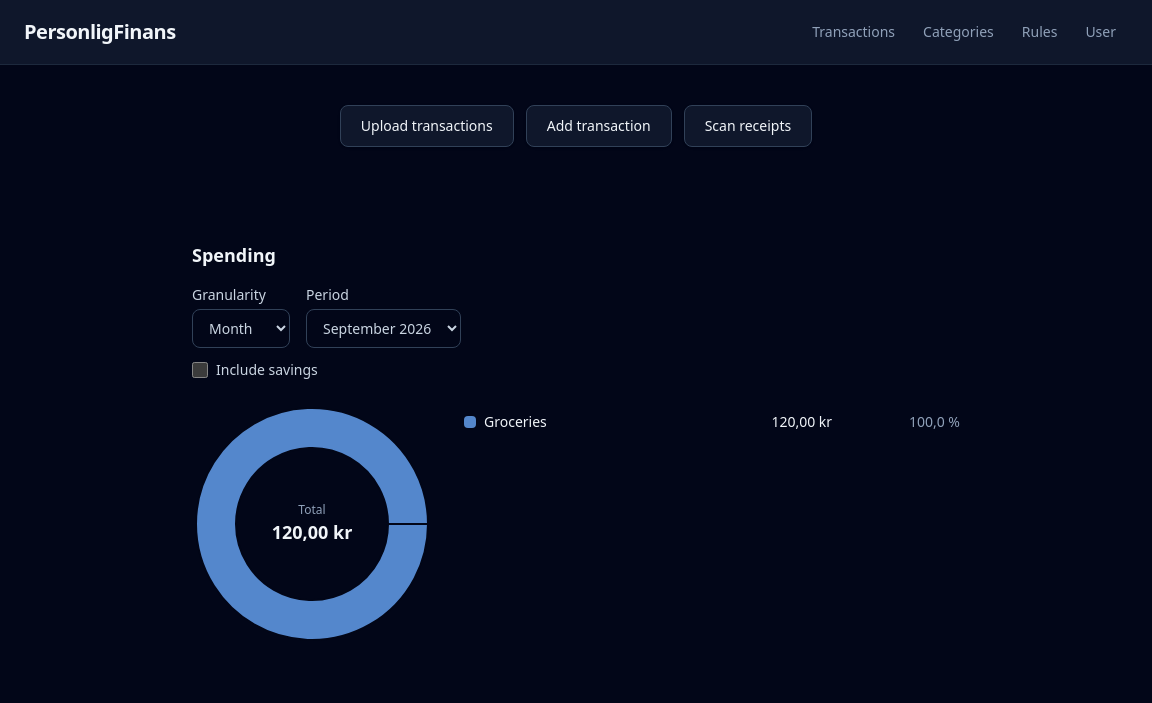
it: Categories page › draws a swatch lighter in Dark, just as the Dashboard draws its Category
The width and height of the screenshot is (1152, 703).
Expected: the navigation bar is shown, [800,16,1128,48]
Click the button "Categories": (958, 32) [911,16,1006,48]
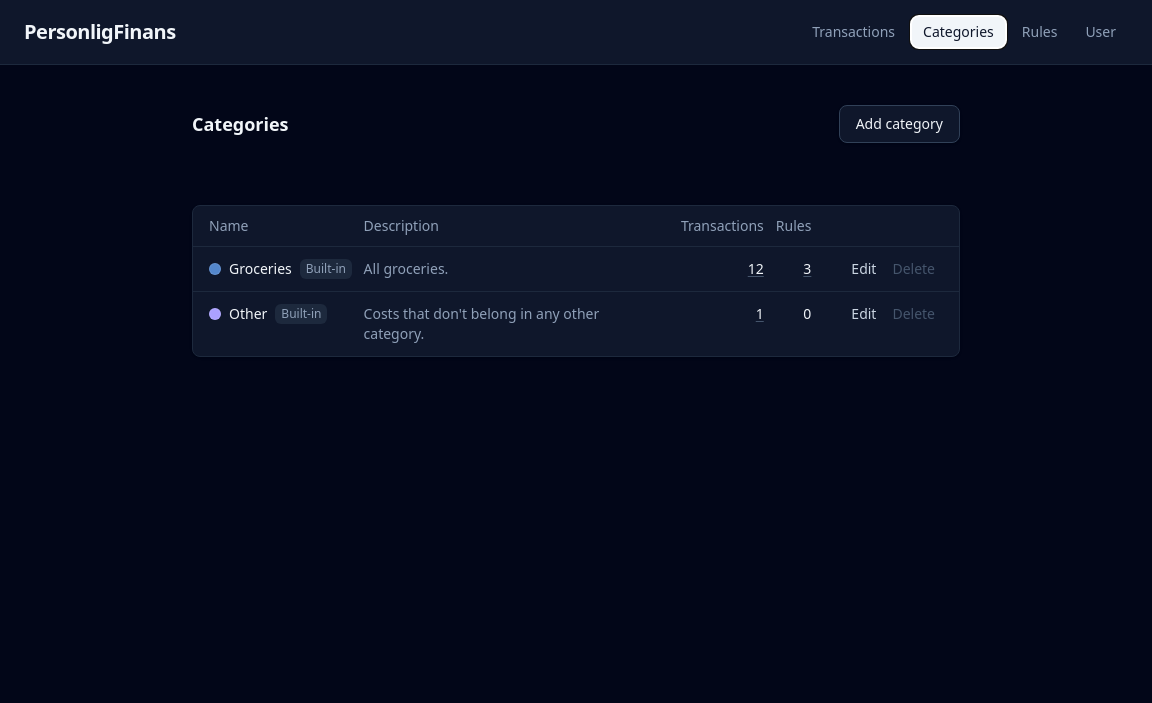
Expected: the text "All groceries." is shown, [364,246,669,292]
